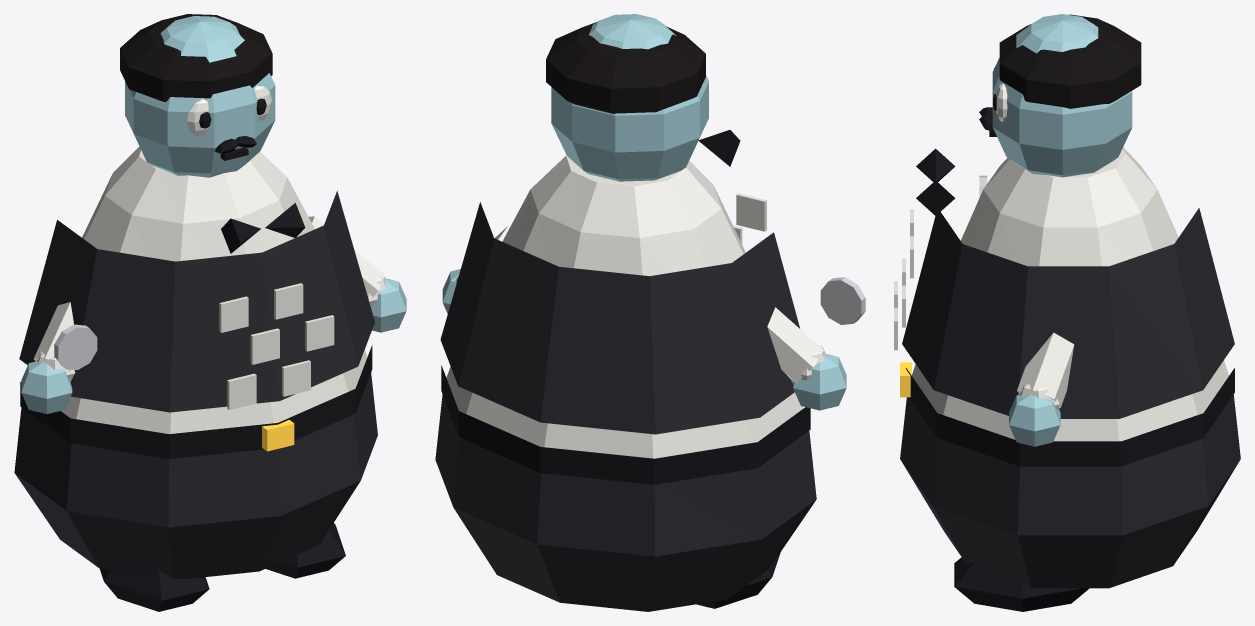
File: npc_conserje.glb
3 renders of one model, left to right at view 1: azimuth 30°, elevation 25°; view 2: azimuth 150°, elevation 25°; view 3: azimuth 270°, elevation 25°, orthographic. The views are drawn at different scales.
Visible parts, largest first — view 1: body_vest_checker, body_white, head_skin_celeste, body_black, head_hair_black, legs_black, arms_skin_celeste, arms_white, props_stopwatch, face_black, face_white, body_gold; view 2: body_vest_checker, body_white, head_skin_celeste, body_black, head_hair_black, arms_white, arms_skin_celeste, props_stopwatch, legs_black; view 3: body_vest_checker, body_white, head_skin_celeste, body_black, head_hair_black, legs_black, arms_white, arms_skin_celeste.
Part boxes in pixels (<box>): body_vest_checker: <box>14,191,377,579</box>; body_white: <box>61,146,367,434</box>; head_skin_celeste: <box>125,16,275,177</box>; body_black: <box>20,203,372,458</box>; head_hair_black: <box>120,14,272,101</box>; legs_black: <box>99,523,345,611</box>; arms_skin_celeste: <box>21,278,406,413</box>; arms_white: <box>33,216,386,381</box>; props_stopwatch: <box>54,324,97,369</box>; face_black: <box>199,98,266,160</box>; face_white: <box>187,86,272,135</box>; body_gold: <box>262,420,294,451</box>; body_vest_checker: <box>435,202,816,611</box>; body_white: <box>446,155,803,458</box>; head_skin_celeste: <box>551,14,708,181</box>; body_black: <box>441,130,810,484</box>; head_hair_black: <box>546,22,705,113</box>; arms_white: <box>455,225,825,383</box>; arms_skin_celeste: <box>442,269,846,410</box>; props_stopwatch: <box>820,277,865,324</box>; legs_black: <box>697,552,780,608</box>; body_vest_checker: <box>900,208,1240,588</box>; body_white: <box>894,147,1228,441</box>; head_skin_celeste: <box>992,14,1132,177</box>; body_black: <box>906,148,1234,466</box>; head_hair_black: <box>999,14,1141,108</box>; legs_black: <box>954,557,1089,611</box>; arms_white: <box>1017,332,1074,409</box>; arms_skin_celeste: <box>1009,394,1060,446</box>.
Size of the model in its own units: 1.13 by 1.53 by 0.875.
